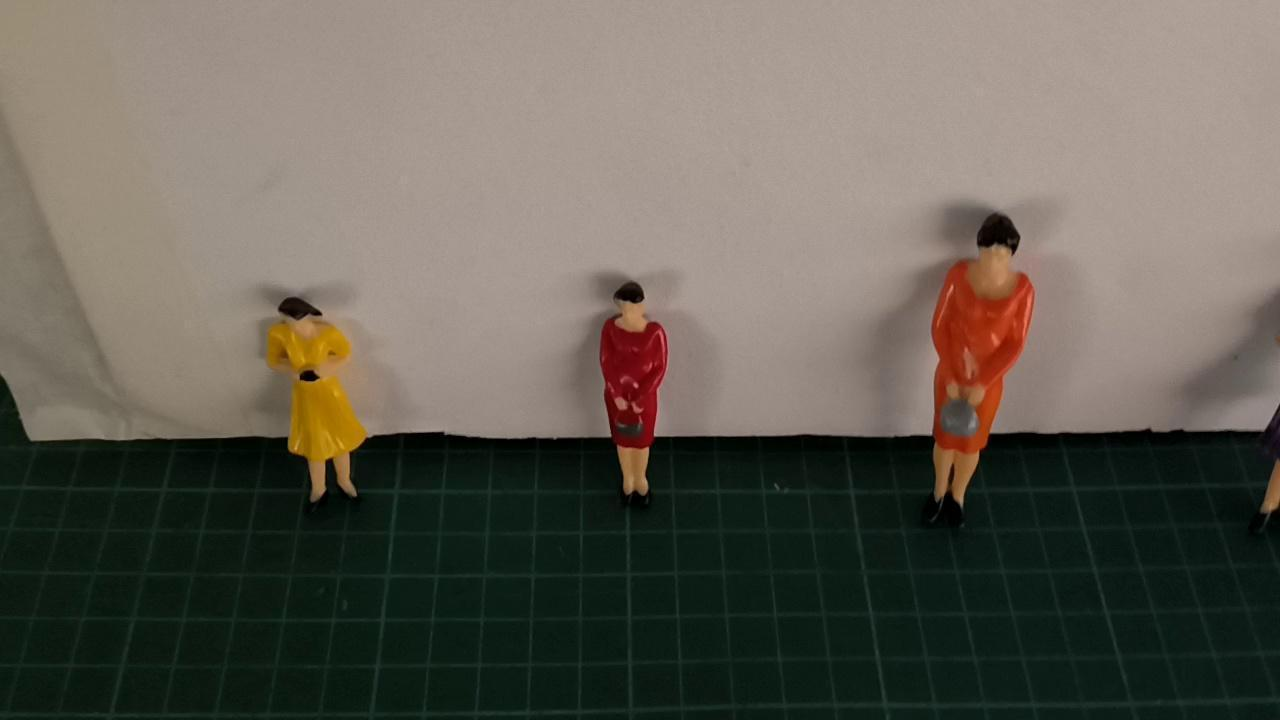human: (931, 212, 1036, 536), (269, 296, 373, 516), (603, 282, 669, 514)
